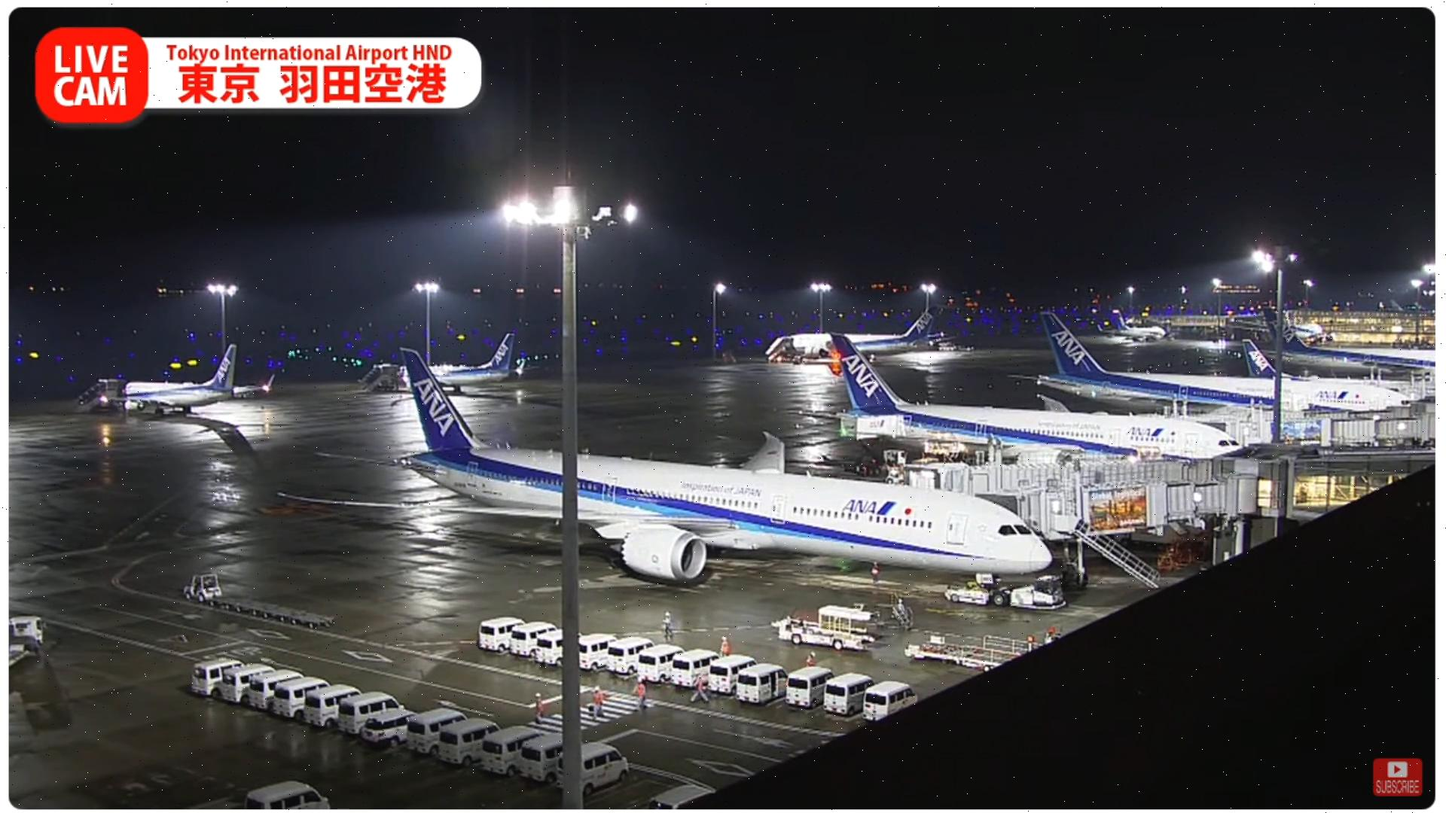Aerobridge: (901, 454, 1290, 516), (984, 473, 1277, 533)
Airplane: (270, 337, 1061, 583)
Dolly: (217, 589, 341, 641)
JCPL: (898, 634, 1015, 675), (950, 628, 1054, 653)
Skyloader: (766, 593, 889, 657)
Tow Tug: (941, 578, 1074, 617)
Tractor: (176, 570, 228, 611)
Window: (1291, 459, 1429, 518)
